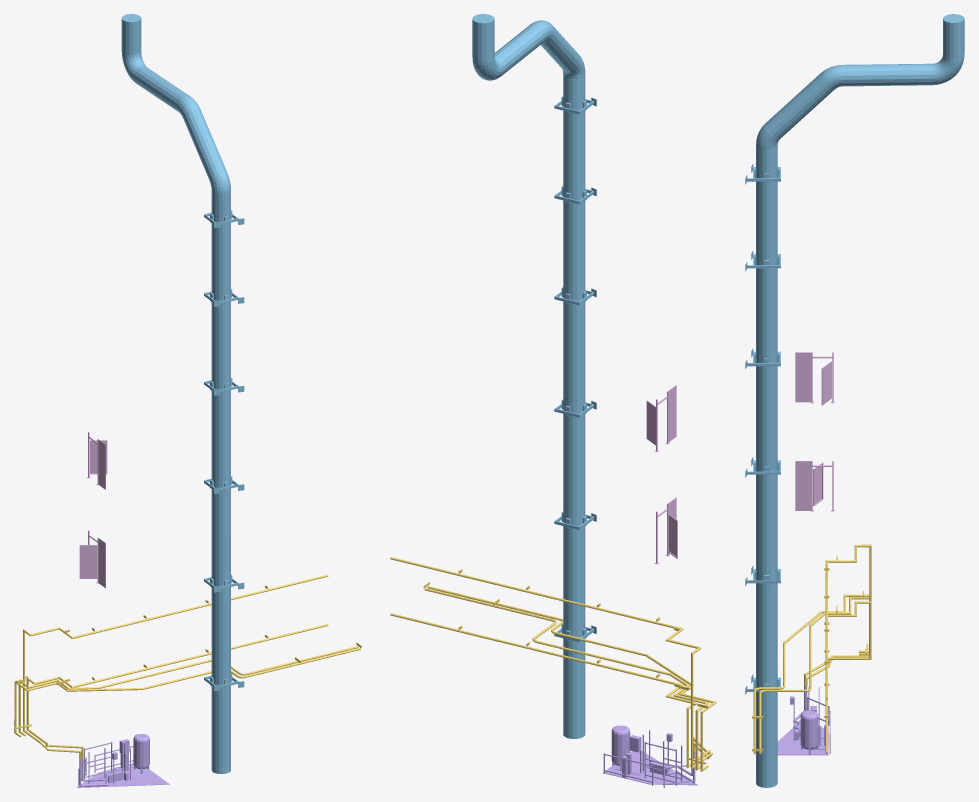
File: HO-side-A-Services-cut2.glb
3 renders of one model, left to right at view 1: azimuth 30°, elevation 25°; view 2: azimuth 150°, elevation 25°; view 3: azimuth 270°, elevation 25°, orthographic. The views are drawn at different scales.
Visible parts, largest first — view 1: _000001BD86F550C0_IndexedFaceSet, _000001BD80990AC0_IndexedFaceSet, _000001BD86AF9340_IndexedFaceSet, _000001BD85268BC0_IndexedFaceSet; view 2: _000001BD86F550C0_IndexedFaceSet, _000001BD80990AC0_IndexedFaceSet, _000001BD86AF9340_IndexedFaceSet, _000001BD85268BC0_IndexedFaceSet; view 3: _000001BD86F550C0_IndexedFaceSet, _000001BD80990AC0_IndexedFaceSet, _000001BD85268BC0_IndexedFaceSet, _000001BD86AF9340_IndexedFaceSet.
Boxes of the visible parts, x1,y1,x2,y2 form: _000001BD86F550C0_IndexedFaceSet: [121, 14, 244, 773]; _000001BD80990AC0_IndexedFaceSet: [14, 574, 361, 758]; _000001BD86AF9340_IndexedFaceSet: [76, 734, 169, 787]; _000001BD85268BC0_IndexedFaceSet: [79, 432, 107, 588]; _000001BD86F550C0_IndexedFaceSet: [472, 14, 596, 738]; _000001BD80990AC0_IndexedFaceSet: [390, 557, 716, 771]; _000001BD86AF9340_IndexedFaceSet: [603, 725, 697, 787]; _000001BD85268BC0_IndexedFaceSet: [646, 385, 677, 564]; _000001BD86F550C0_IndexedFaceSet: [745, 14, 964, 787]; _000001BD80990AC0_IndexedFaceSet: [752, 544, 871, 754]; _000001BD85268BC0_IndexedFaceSet: [795, 352, 834, 511]; _000001BD86AF9340_IndexedFaceSet: [777, 686, 830, 755].
Bounding box in the file's own units: 15.67 × 35.11 × 9.14.
